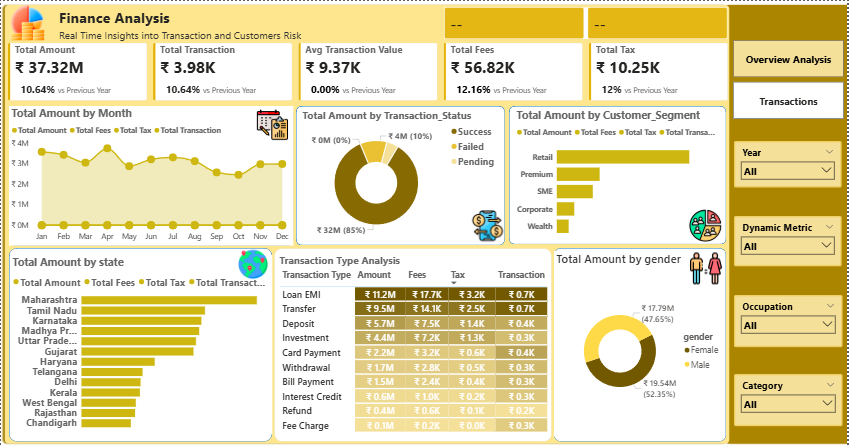

The page's visual inventory and layout, read from the dashboard file:
{"tool":"powerbi","page":{"name":"Overview Analysis","canvas":[1800,950],"ordinal":0},"visuals":[{"type":"shape","box":[1518.9,0,415,949.6],"z":0},{"type":"shape","box":[0,0,1558,950],"z":1000},{"type":"cardVisual","fields":{"Data":["finance_transactions.Dashboard Title"]},"box":[105.4,7.9,596.2,82.9],"z":2000},{"type":"cardVisual","fields":{"Data":["finance_transactions.Total Amount","finance_transactions.Total Transaction","finance_transactions.Avg Total Value","finance_transactions.Total Fees","finance_transactions.Total Tax"]},"box":[9.2,82.1,1544,135.8],"z":3000},{"type":"slicer","fields":{"Values":["Calender.Year"]},"box":[1558.7,297.9,228.7,98.6],"z":4000},{"type":"slicer","fields":{"Values":["Dynamic Metric.Dynamic Metric"]},"box":[1558.7,457.3,228.7,107],"z":5000},{"type":"shape","box":[17,222.9,605,297.2],"z":6000},{"type":"areaChart","title":"Total Amount by Month","fields":{"Y":["finance_transactions.Total Amount","finance_transactions.Total Fees","finance_transactions.Total Tax","finance_transactions.Total Transaction"],"Category":["Calender.Month"]},"box":[17,222.9,605,297.2],"z":7000},{"type":"cardVisual","fields":{"Data":["finance_transactions.Selected Year","finance_transactions.Selected Dynamic Measure"]},"box":[938.3,8.3,612.1,77.1],"z":8000},{"type":"shape","box":[628.1,223.8,444.4,296.2],"z":9000},{"type":"donutChart","title":"Total Amount by Transaction_Status","fields":{"Y":["finance_transactions.Total Amount","finance_transactions.Total Fees","finance_transactions.Total Tax","finance_transactions.Total Transaction"],"Category":["finance_transactions.transaction_status"]},"box":[635.6,227.8,427.8,290],"z":10000},{"type":"shape","box":[1080,223.3,462.2,294.4],"z":11000},{"type":"barChart","title":"Total Amount by Customer_Segment","fields":{"Y":["finance_transactions.Total Amount","finance_transactions.Total Fees","finance_transactions.Total Tax","finance_transactions.Total Transaction"],"Category":["customers.customer_segment"]},"box":[1091.1,226.7,438.9,286.7],"z":12000},{"type":"shape","box":[16.1,525.5,559.7,412],"z":13000},{"type":"barChart","title":"Total Amount by state","fields":{"Y":["finance_transactions.Total Amount","finance_transactions.Total Fees","finance_transactions.Total Tax","finance_transactions.Total Transaction"],"Category":["customers.state"]},"box":[18.1,539.6,557.7,380.5],"z":14000},{"type":"shape","box":[575.7,521.6,595,416],"z":15000},{"type":"tableEx","title":"Transaction Type Analysis","fields":{"Values":["finance_transactions.transaction_type","finance_transactions.Total Amount","finance_transactions.Total Fees","finance_transactions.Total Tax","finance_transactions.Total Transaction"]},"box":[587.8,536.5,582.4,390.5],"z":16000},{"type":"shape","box":[1175.7,525.7,366.2,412.2],"z":17000},{"type":"donutChart","fields":{"Category":["customers.gender"],"Y":["finance_transactions.Total Amount"]},"box":[1177,532.4,363.5,394.6],"z":18000},{"type":"slicer","fields":{"Values":["customers.occupation"]},"box":[1558.7,625.2,230.8,111.2],"z":19000},{"type":"slicer","fields":{"Values":["finance_transactions.merchant_category"]},"box":[1558.7,793,230.8,111.2],"z":20000},{"type":"pageNavigator","box":[1557.1,82.8,236,169.5],"z":21000},{"type":"image","box":[5.8,9.2,99.6,75],"z":21001},{"type":"image","box":[532.2,226.7,90.7,71],"z":21002},{"type":"image","box":[997.8,444.4,74.4,66.7],"z":21003},{"type":"image","box":[1466.2,532.4,67.6,74.3],"z":21004},{"type":"image","box":[504.1,528.4,63.5,64.9],"z":21005},{"type":"image","box":[1460,442.2,78.9,70],"z":21006}]}

Visuals, with their boxes in screenshot pixels (x1, y1, x2, y2), scaled from the page's 1800x950 canvas onto the 852x446 screenshot:
shape: (x1=719, y1=0, x2=851, y2=445)
shape: (x1=0, y1=0, x2=737, y2=445)
cardVisual - finance_transactions.Dashboard Title: (x1=50, y1=4, x2=332, y2=43)
cardVisual - finance_transactions.Total Amount x finance_transactions.Total Transaction: (x1=4, y1=39, x2=735, y2=102)
slicer - Calender.Year: (x1=738, y1=140, x2=846, y2=186)
slicer - Dynamic Metric.Dynamic Metric: (x1=738, y1=215, x2=846, y2=265)
shape: (x1=8, y1=105, x2=294, y2=244)
"Total Amount by Month" areaChart: (x1=8, y1=105, x2=294, y2=244)
cardVisual - finance_transactions.Selected Year x finance_transactions.Selected Dynamic Measure: (x1=444, y1=4, x2=734, y2=40)
shape: (x1=297, y1=105, x2=508, y2=244)
"Total Amount by Transaction_Status" donutChart: (x1=301, y1=107, x2=503, y2=243)
shape: (x1=511, y1=105, x2=730, y2=243)
"Total Amount by Customer_Segment" barChart: (x1=516, y1=106, x2=724, y2=241)
shape: (x1=8, y1=247, x2=273, y2=440)
"Total Amount by state" barChart: (x1=9, y1=253, x2=273, y2=432)
shape: (x1=272, y1=245, x2=554, y2=440)
"Transaction Type Analysis" tableEx: (x1=278, y1=252, x2=554, y2=435)
shape: (x1=556, y1=247, x2=730, y2=440)
donutChart - customers.gender x finance_transactions.Total Amount: (x1=557, y1=250, x2=729, y2=435)
slicer - customers.occupation: (x1=738, y1=294, x2=847, y2=346)
slicer - finance_transactions.merchant_category: (x1=738, y1=372, x2=847, y2=424)
pageNavigator: (x1=737, y1=39, x2=849, y2=118)
image: (x1=3, y1=4, x2=50, y2=40)
image: (x1=252, y1=106, x2=295, y2=140)
image: (x1=472, y1=209, x2=508, y2=240)
image: (x1=694, y1=250, x2=726, y2=285)
image: (x1=239, y1=248, x2=269, y2=279)
image: (x1=691, y1=208, x2=728, y2=240)
